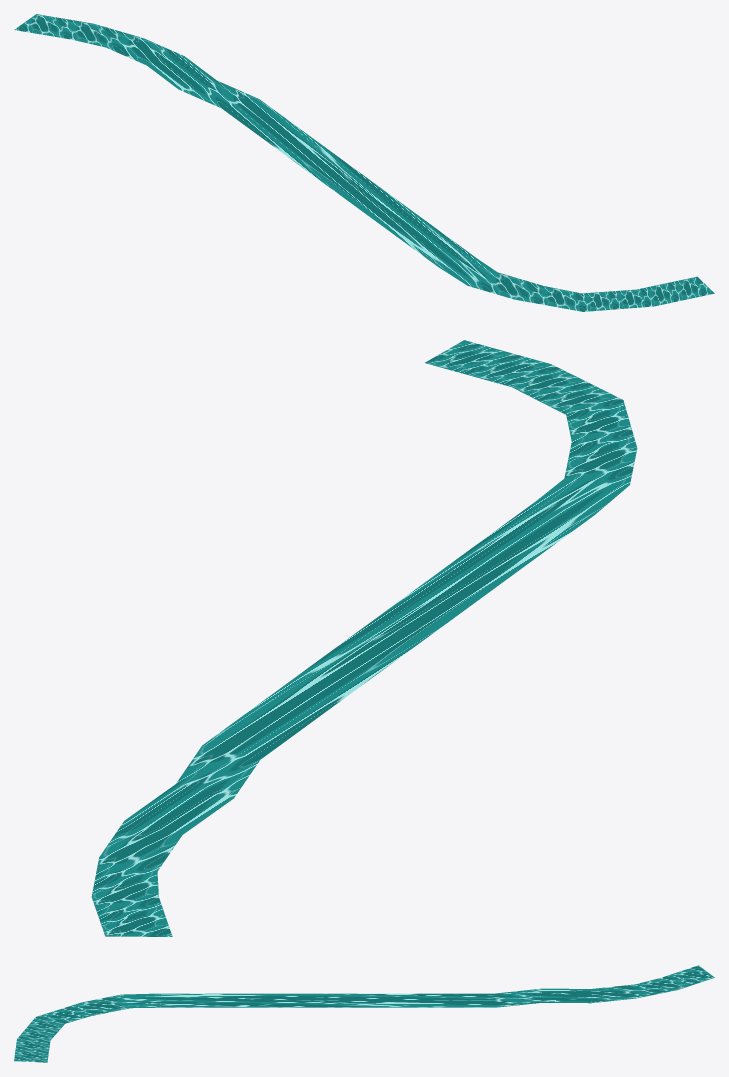
Rendered from water.fbx.
The picture shows the model from 3 angles, top to bottom: view 1: azimuth 30°, elevation 25°; view 2: azimuth 150°, elevation 25°; view 3: azimuth 270°, elevation 25°; orthographic projection. The views are drawn at different scales.
Visible parts, largest first — view 1: Plane.062; view 2: Plane.062; view 3: Plane.062.
Part boxes in pixels (left/top/right/bottom): Plane.062: left=14, top=14, right=714, bottom=311; Plane.062: left=91, top=340, right=637, bottom=936; Plane.062: left=14, top=965, right=714, bottom=1062.
Bounding box in the file's own units: 8069 × 0.004 × 24535.
1 material, 1 textured.
